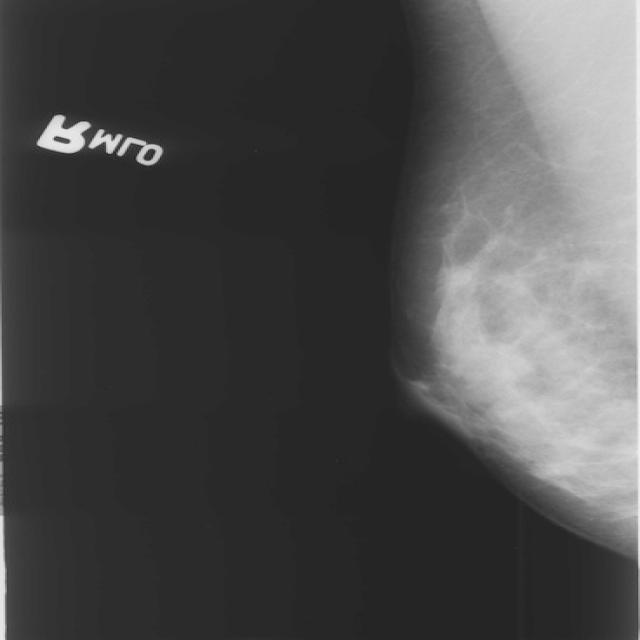tumour: (451, 344, 532, 384)
